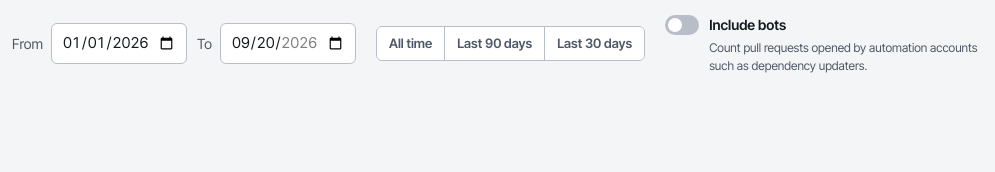
DateRangeControls › typing a year › shows the held value again on leaving a field with an incomplete year
Type "0202-09-20" into the date field labelled "To". click: (288,44)
box: [220,23,356,64]
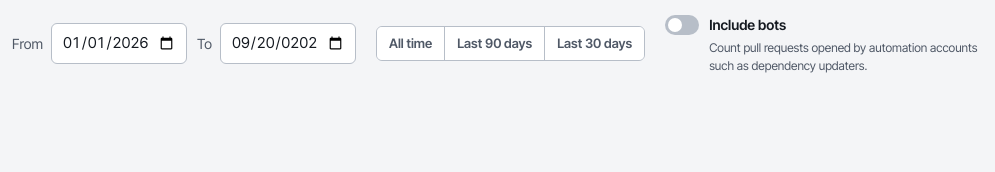
Leave the date field labelled "To", box [220,23,356,64]
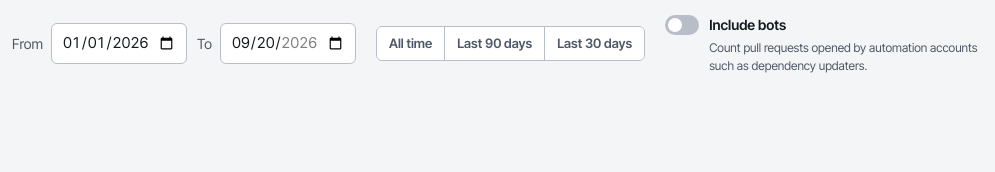
Expected: the date field labelled "To" holds "2026-09-20", [220,23,356,64]
